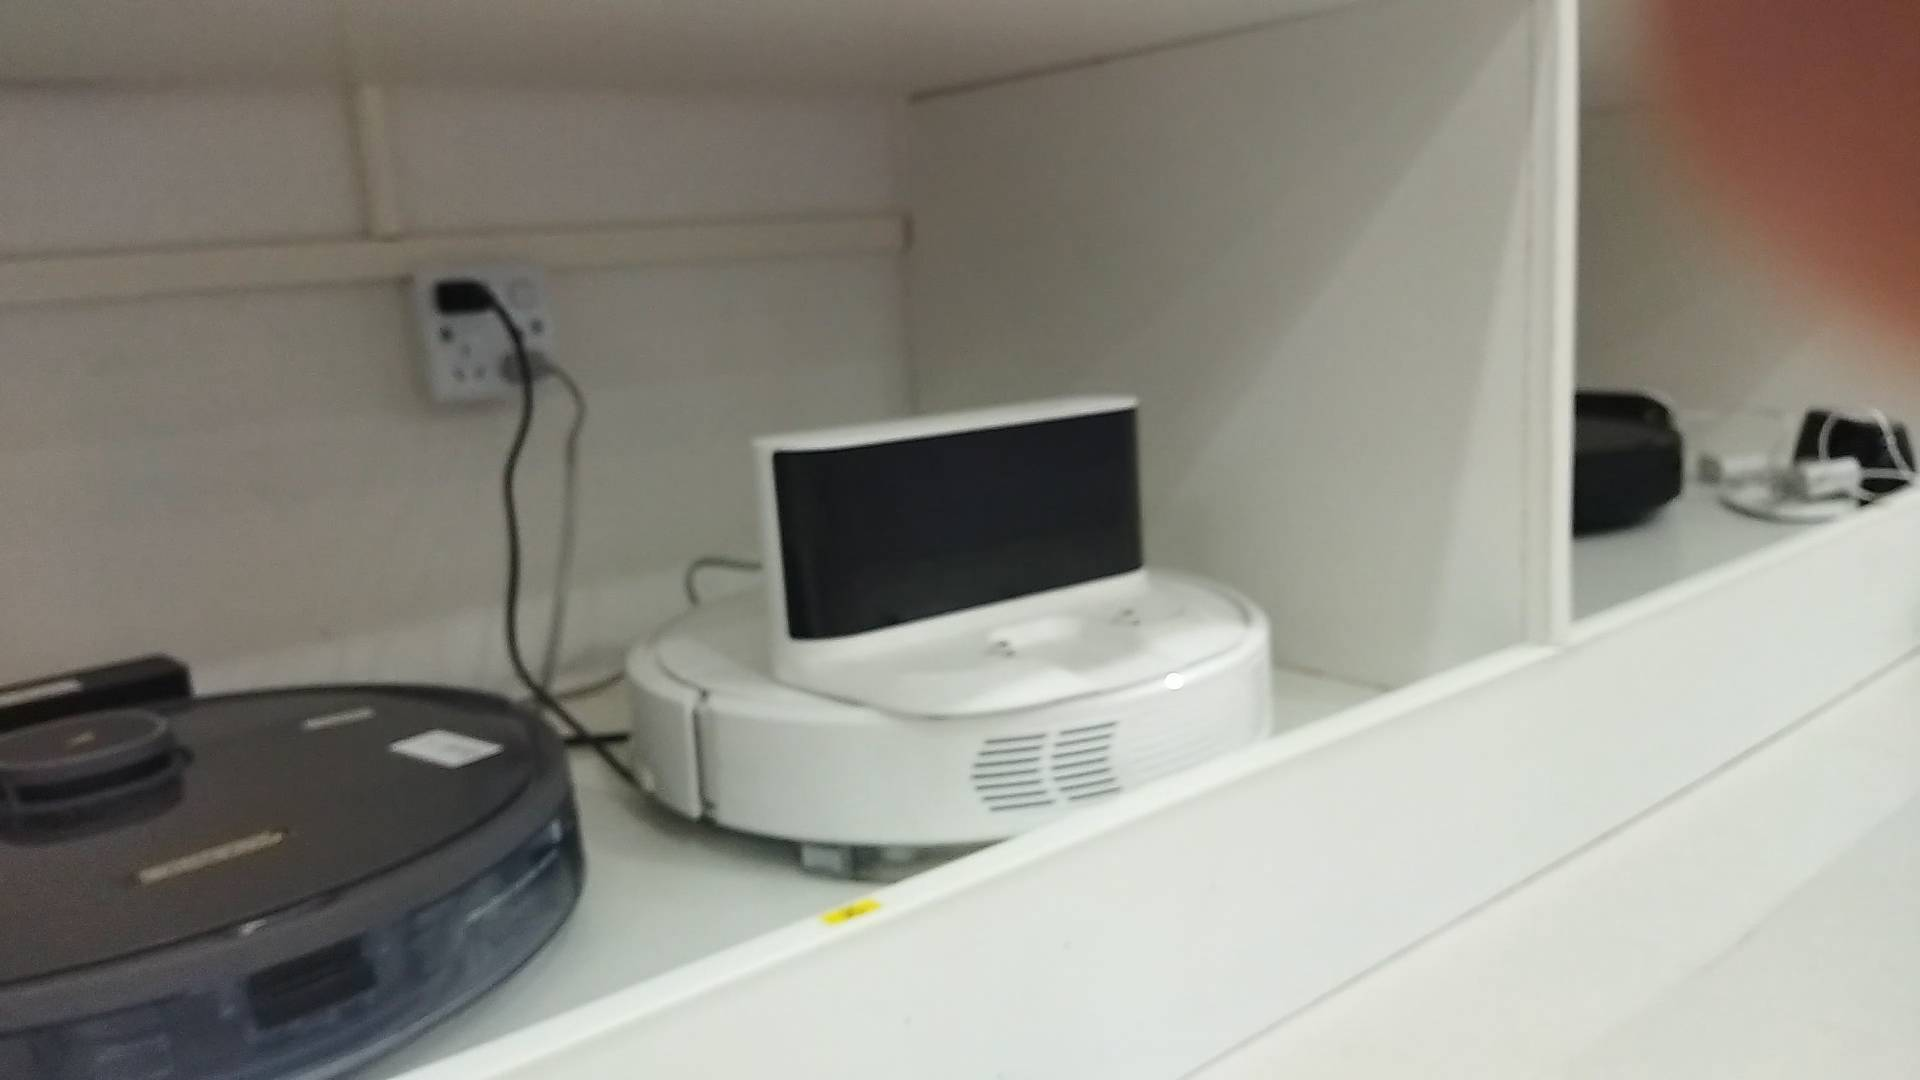recharge seat: (752, 392, 1244, 717)
